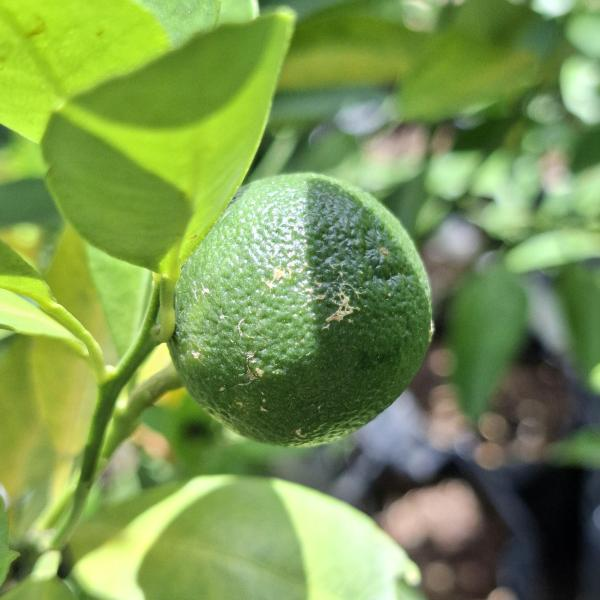Scab: (147, 162, 458, 467)
